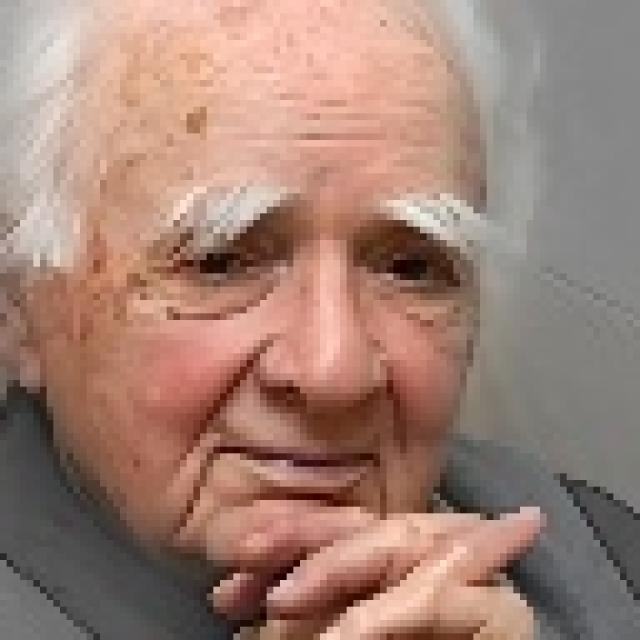sad: (41, 5, 510, 612)
